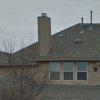Chimney: (27, 13, 61, 59)
